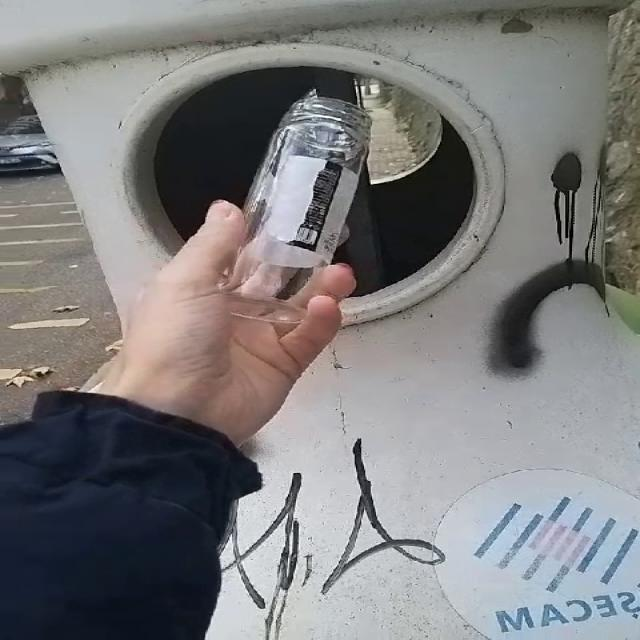glass: (221, 90, 371, 323)
